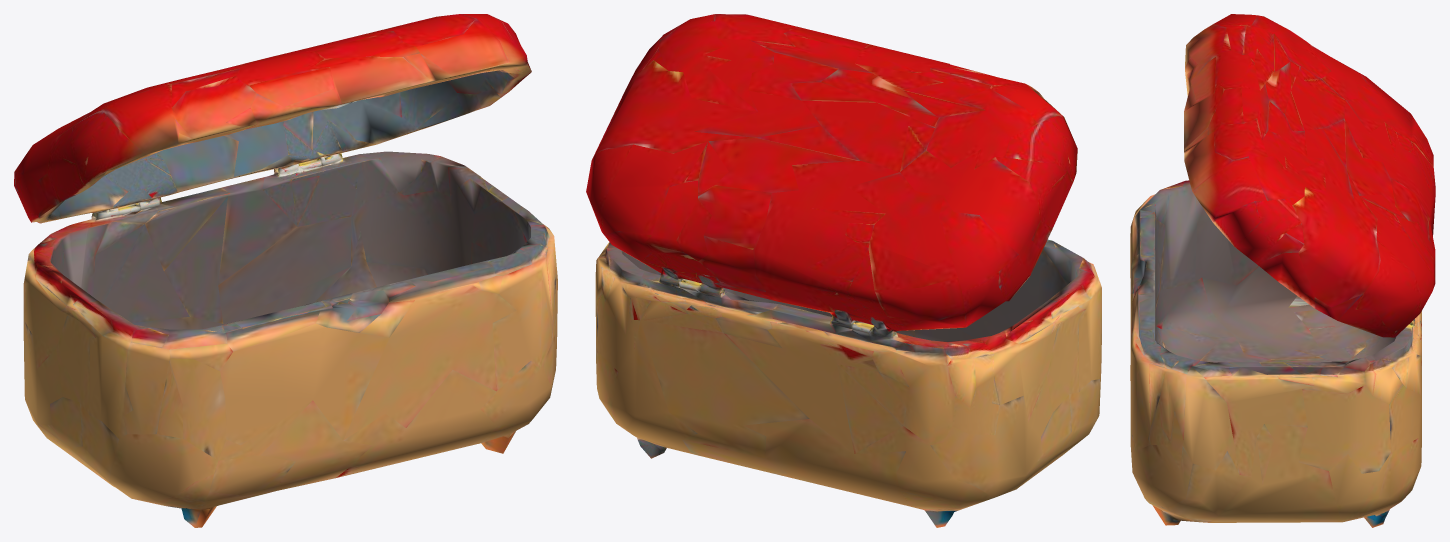
File: toyBox.5d99d2ce.glb
3 views of the same model, side by side, from view 1: azimuth 30°, elevation 25°; view 2: azimuth 150°, elevation 25°; view 3: azimuth 270°, elevation 25° (orthographic). The views are drawn at different scales.
Bounding box in the file's own units: 1.9 × 1.66 × 1.23.
Materials: 1 (1 with a texture image).
